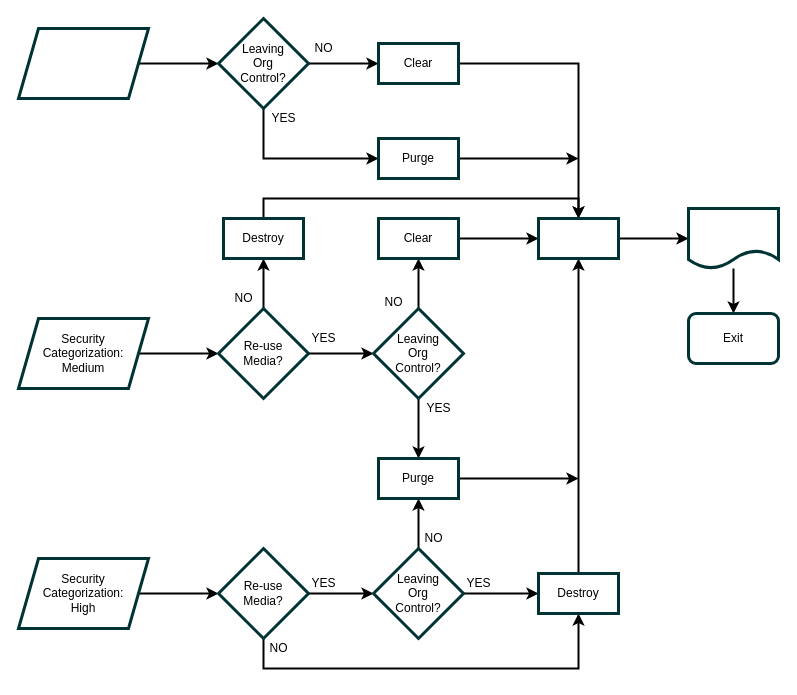
Image size: 797x695. Some labels were removed from this diagram. Here are the shapes that lost their labels. From the top down, the centre of each, then its label:
point (83, 63): Security Categorization: Low
point (578, 238): Validate
point (733, 238): Document
